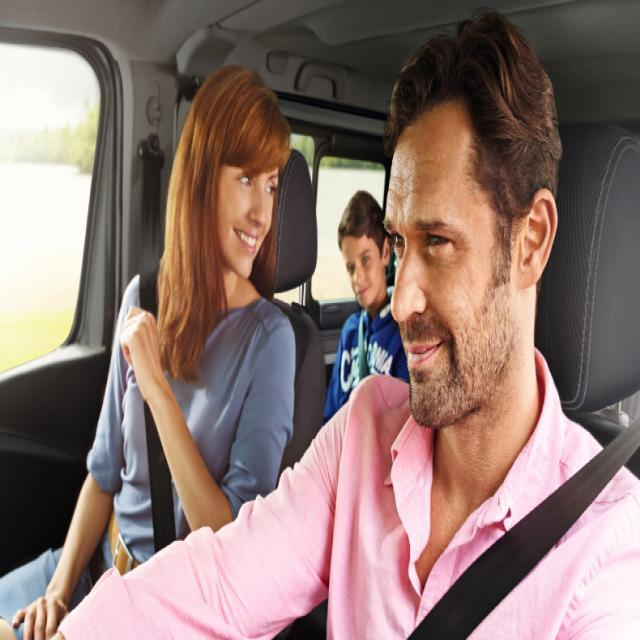seatbelt: (408, 398, 626, 640), (130, 132, 178, 536), (352, 298, 368, 384)
